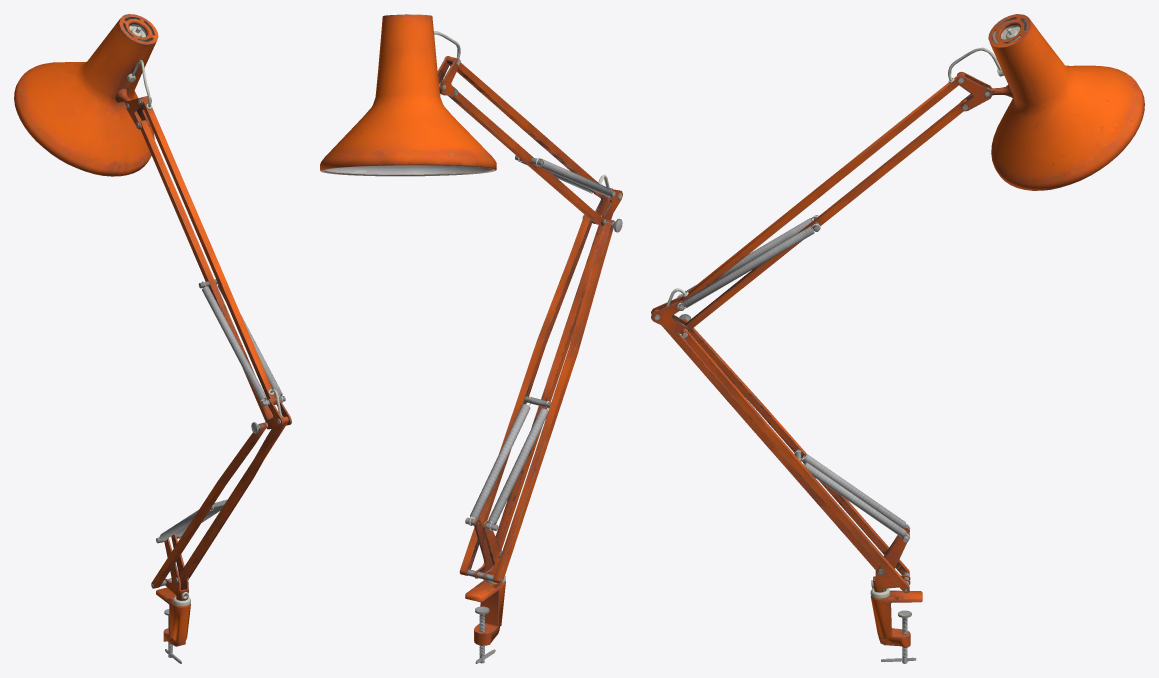
File: desk-lamp.glb
3 renders of one model, left to right at view 1: azimuth 30°, elevation 25°; view 2: azimuth 150°, elevation 25°; view 3: azimuth 270°, elevation 25°, orthographic. The views are drawn at different scales.
Visible parts, largest first — view 1: desk_lamp_arm_01; view 2: desk_lamp_arm_01; view 3: desk_lamp_arm_01.
Boxes of the visible parts, x1,y1,x2,y2 form: desk_lamp_arm_01: (14, 14, 291, 663); desk_lamp_arm_01: (320, 14, 622, 663); desk_lamp_arm_01: (651, 14, 1144, 663).
Bounding box in the file's own units: 0.2017 × 0.8926 × 0.6139.
2 materials, 2 textured.
